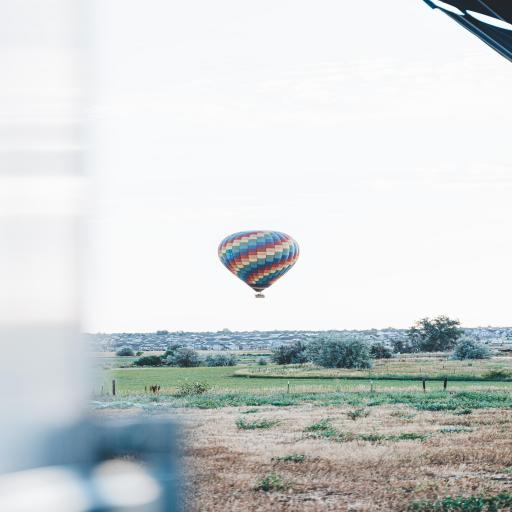hot air ballon: (218, 230, 299, 298)
